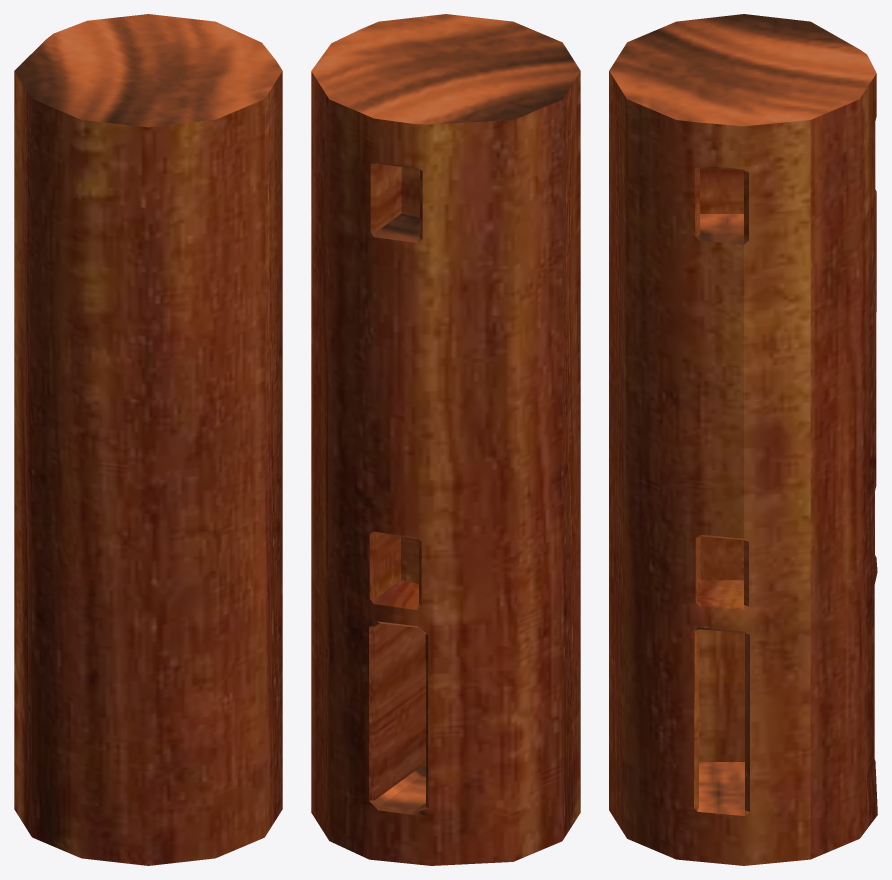
Rendered from SJ_J_tui_03.FBX.
3 views of the same model, side by side, from view 1: azimuth 30°, elevation 25°; view 2: azimuth 150°, elevation 25°; view 3: azimuth 270°, elevation 25° (orthographic).
Parts seen in each view (by area): view 1: SJ_J_tui_03; view 2: SJ_J_tui_03; view 3: SJ_J_tui_03.
Part boxes in pixels (box(x1,y1,x2,y2)): SJ_J_tui_03: box(14, 14, 282, 865); SJ_J_tui_03: box(311, 14, 580, 865); SJ_J_tui_03: box(609, 14, 877, 865).
Bounding box in the file's own units: 4 × 12.27 × 4.04.
2 materials, 2 textured.
